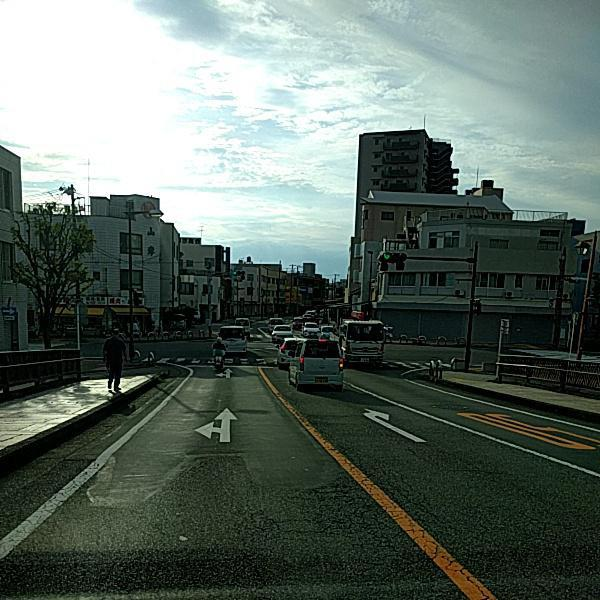D20: (251, 452, 478, 592)
D44: (270, 383, 499, 599)
